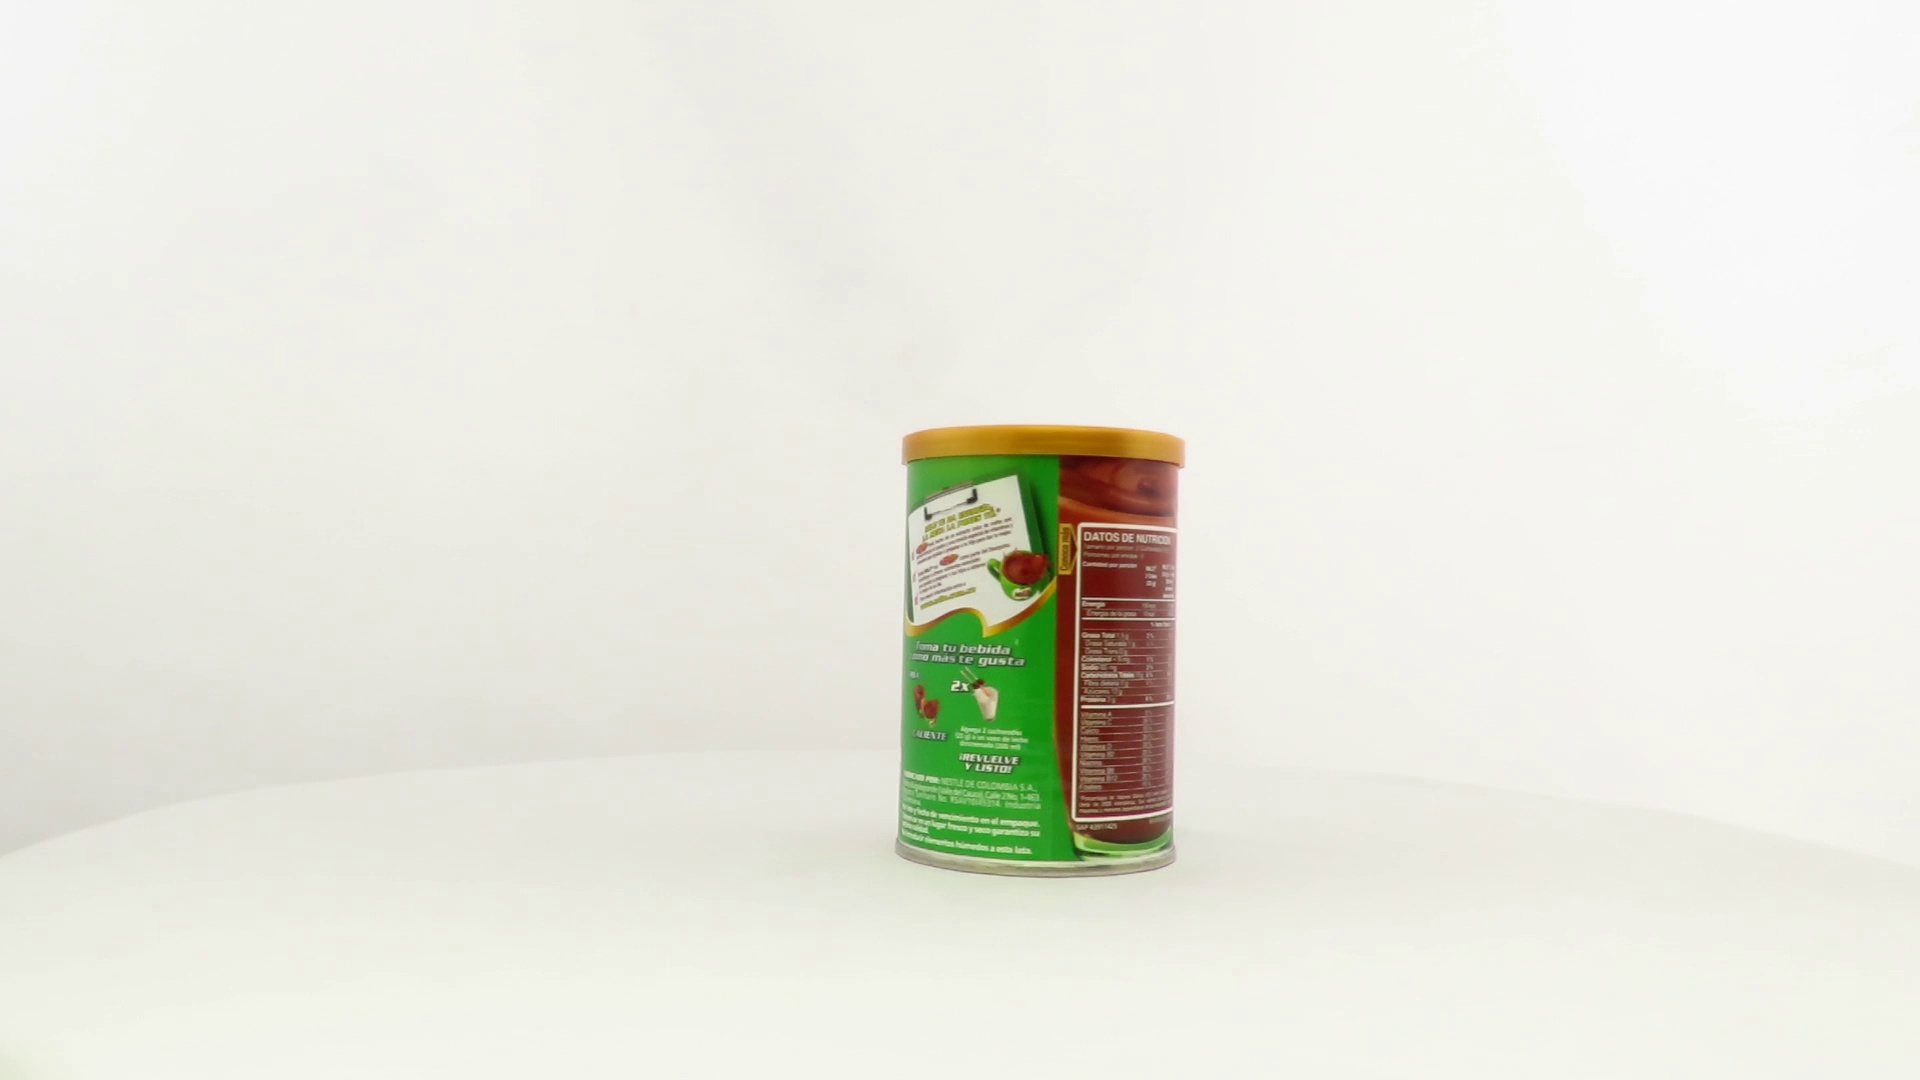COL0170203LAT20000: (890, 419, 1192, 885)
